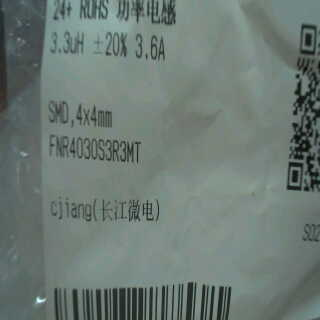3.3uH: (46, 22, 88, 61)
